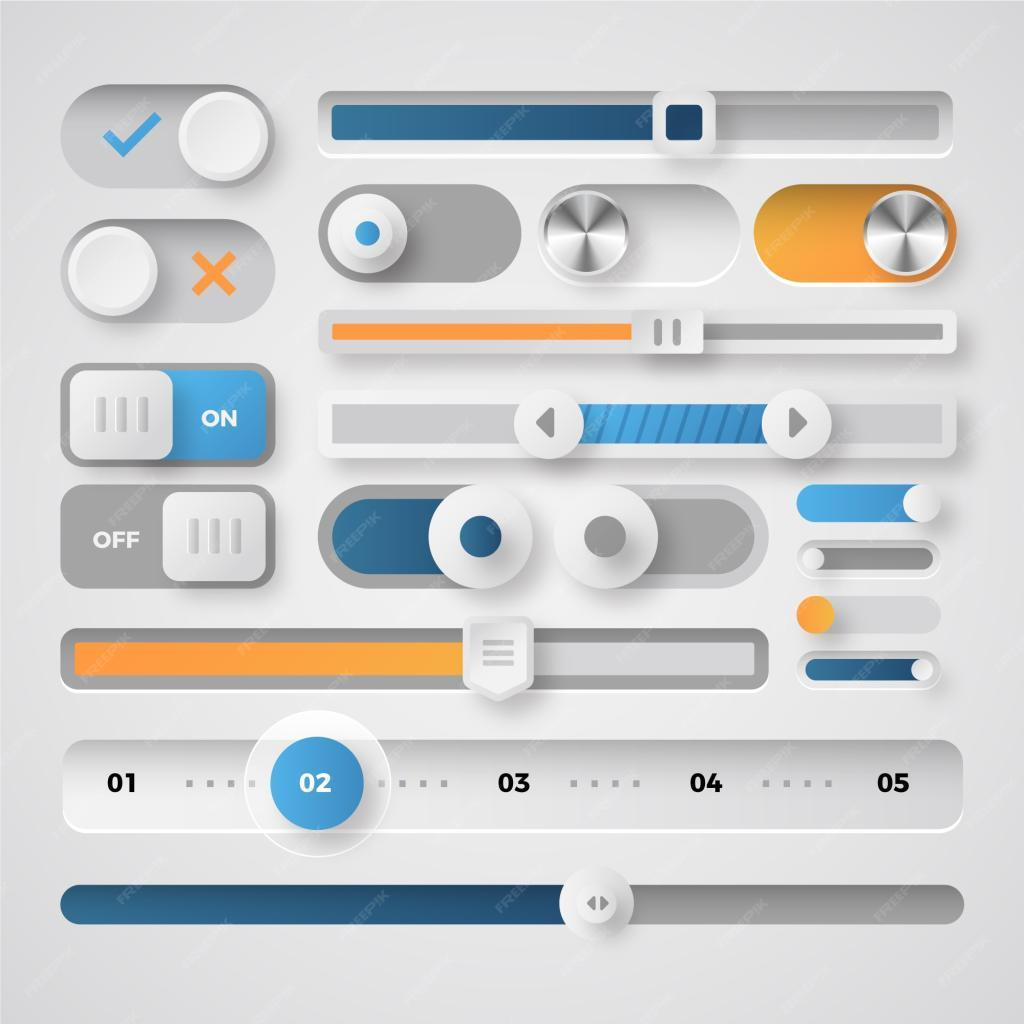slider: (48, 714, 981, 859), (59, 870, 973, 945), (53, 616, 778, 706), (314, 81, 962, 168), (320, 391, 958, 460), (320, 311, 959, 356)
switch: (551, 484, 770, 592), (317, 485, 534, 592), (60, 85, 277, 191), (60, 219, 276, 324), (538, 183, 744, 290), (751, 184, 958, 289), (319, 184, 522, 284), (796, 596, 944, 635), (797, 541, 943, 580), (797, 484, 942, 523), (796, 651, 942, 689)
